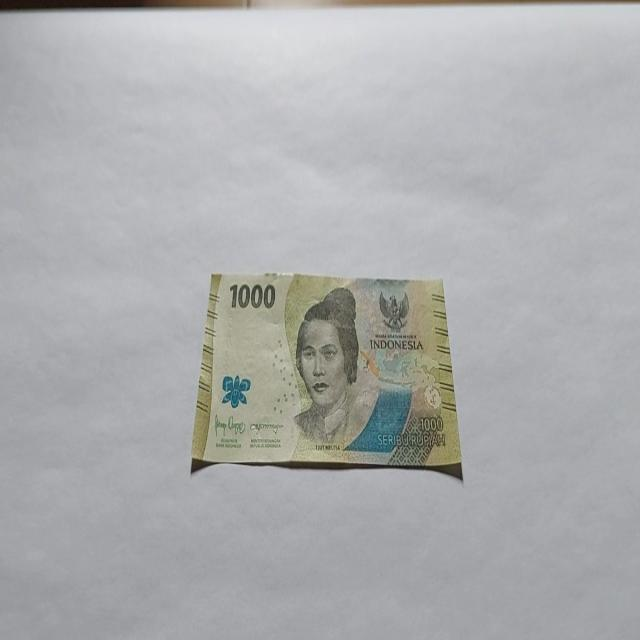seribu rupiah kertas: (189, 270, 463, 479)
